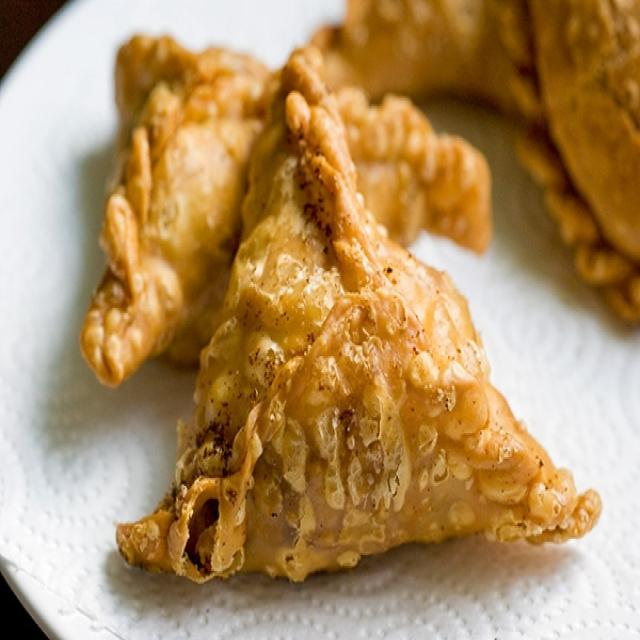炸货点心: (17, 6, 632, 634)
